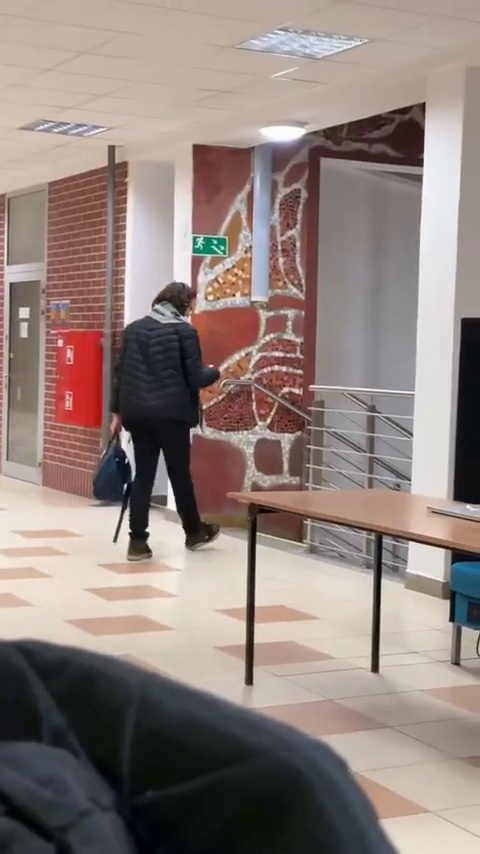no vest: (110, 279, 222, 558)
